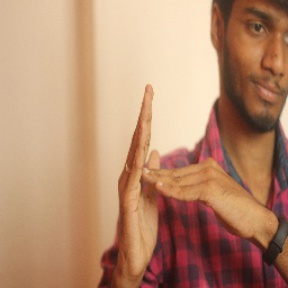Z: (107, 82, 256, 258)
